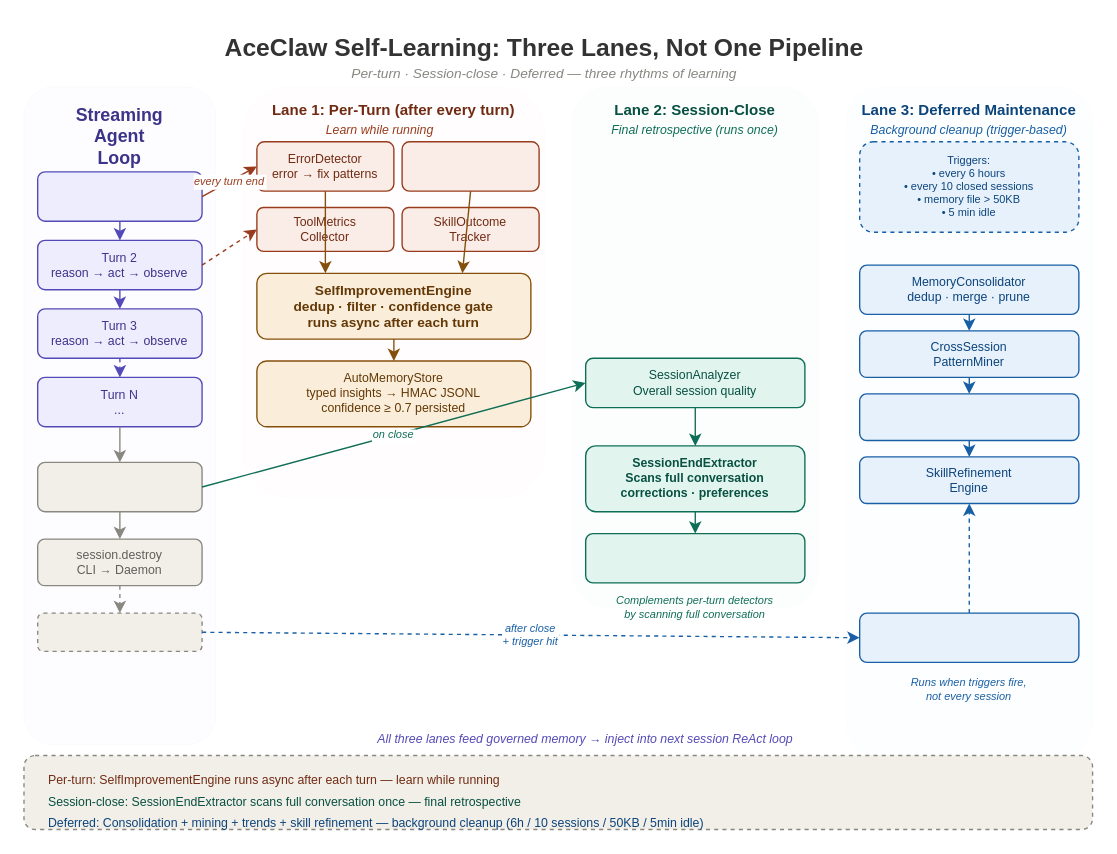
Some shapes in this 1117 by 854 pixel diagram are drawn without their labels. Each missing label, with the box of its shape:
HistoricalLogIndex Snapshot for future mining: (584, 532, 805, 583)
Idle / next session: (36, 612, 202, 651)
LearningMaintenance Scheduler: (858, 612, 1079, 662)
PatternDetector repeated sequences: (401, 140, 539, 191)
Session Close (Ctrl+C / /exit): (36, 461, 202, 512)
TrendDetector emerging patterns: (858, 393, 1079, 440)
Turn 1 reason → act → observe: (36, 171, 202, 221)
